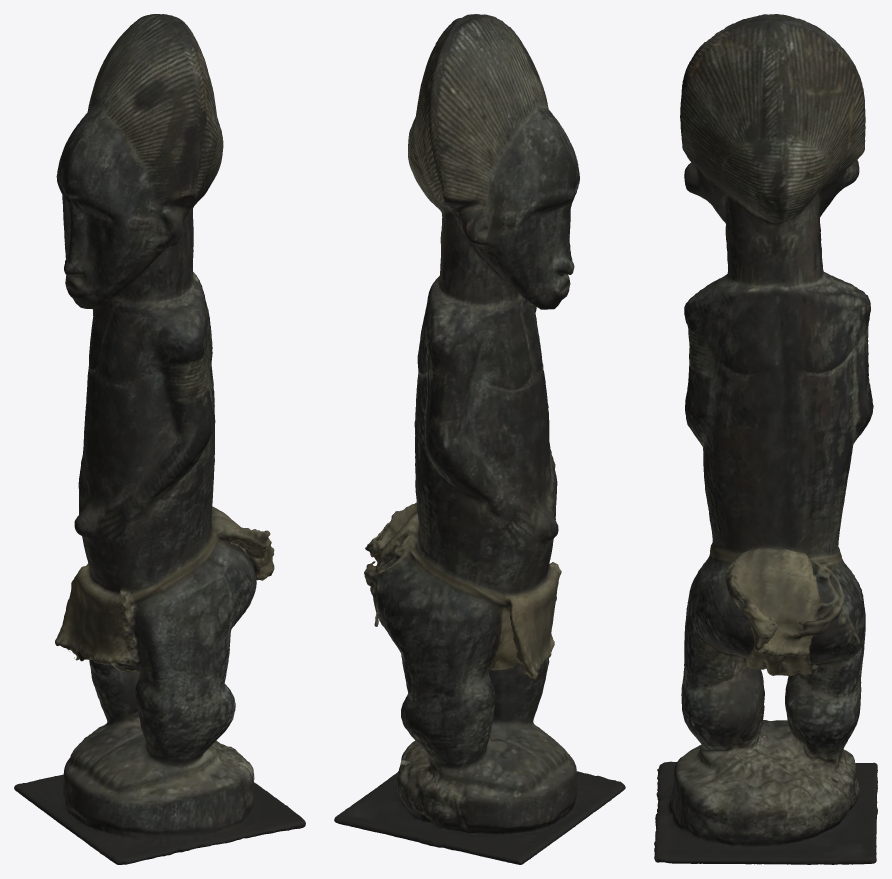
Rendered from preview.glb.
3 renders of one model, left to right at view 1: azimuth 30°, elevation 25°; view 2: azimuth 150°, elevation 25°; view 3: azimuth 270°, elevation 25°, orthographic. The views are drawn at different scales.
Visible parts, largest first — view 1: Object_2; view 2: Object_2; view 3: Object_2.
Part boxes in pixels (<box>): Object_2: <box>14,14,305,864</box>; Object_2: <box>334,14,625,864</box>; Object_2: <box>654,14,877,864</box>.
Bounding box in the file's own units: 134 × 479 × 120.
Materials: 1 (1 with a texture image).
